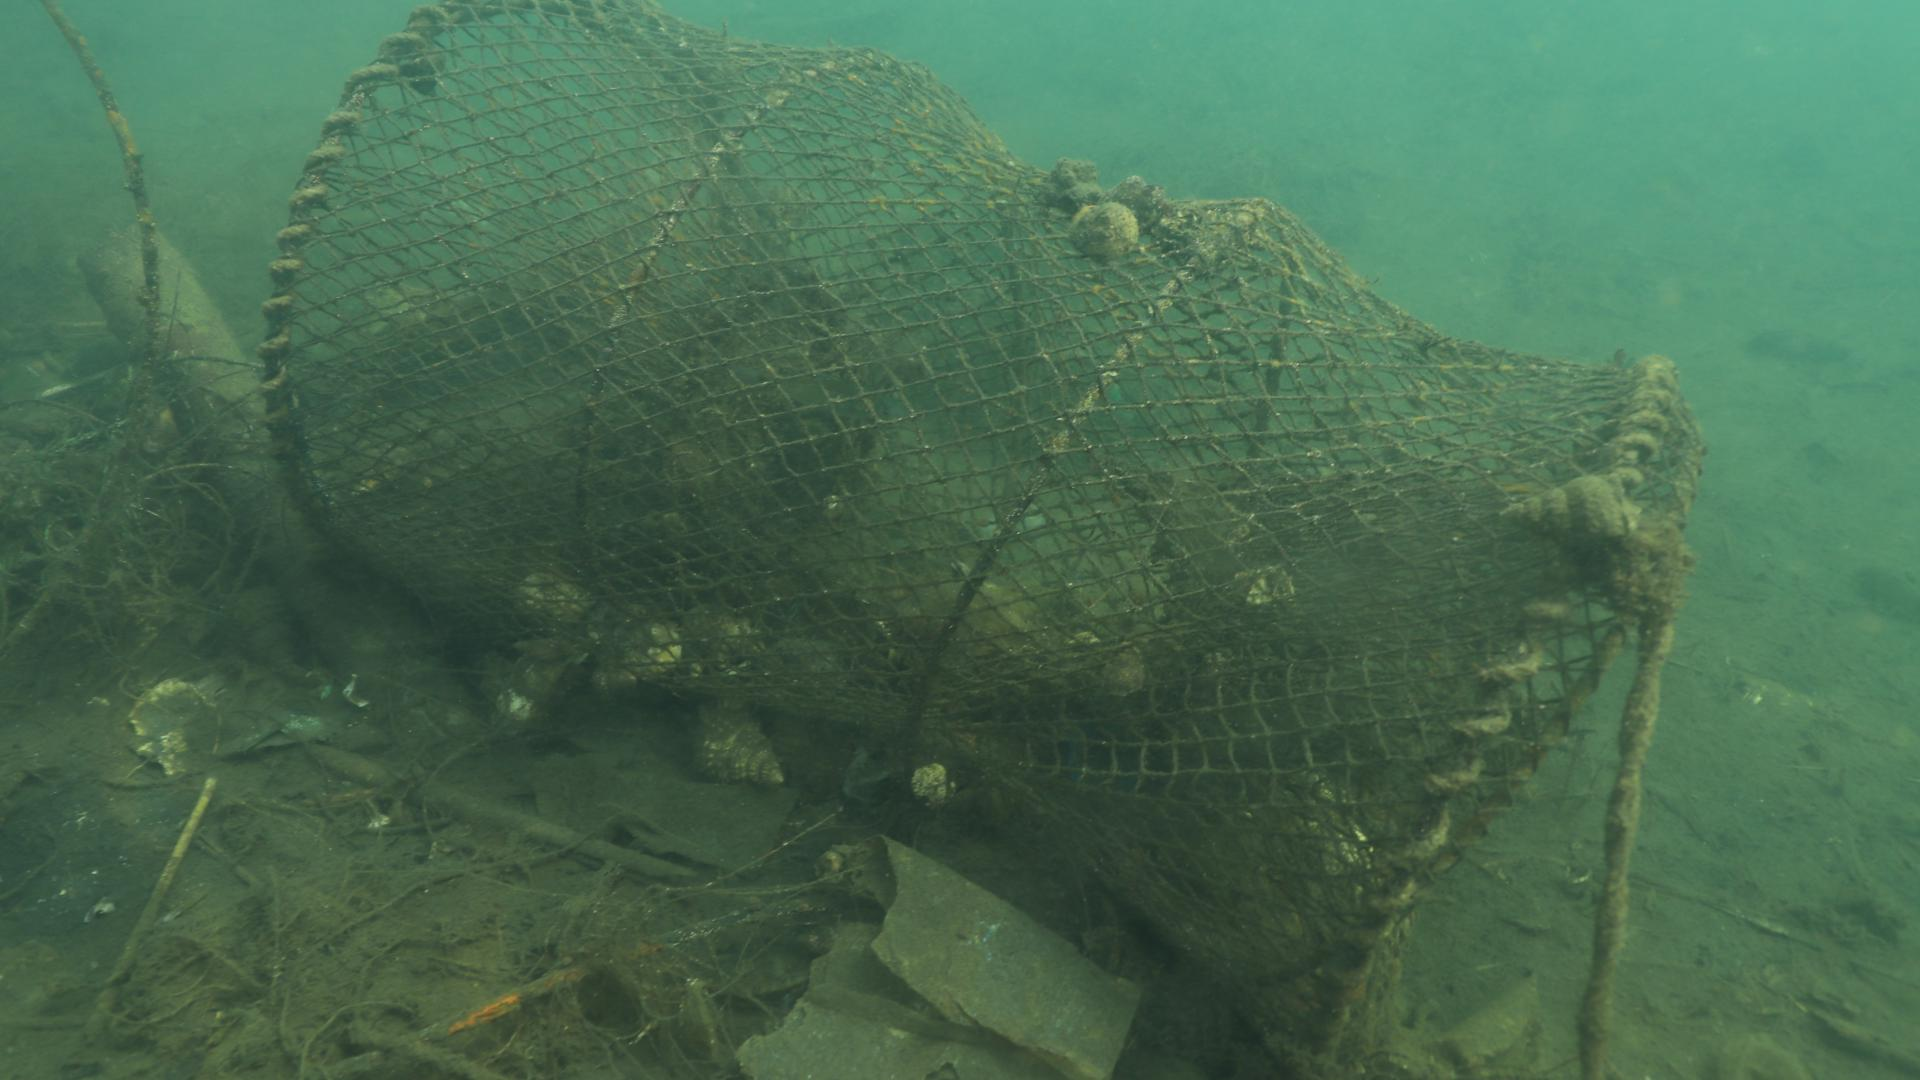rope: (1575, 617, 1671, 1080)
spring fish trap: (253, 0, 1710, 1080)
